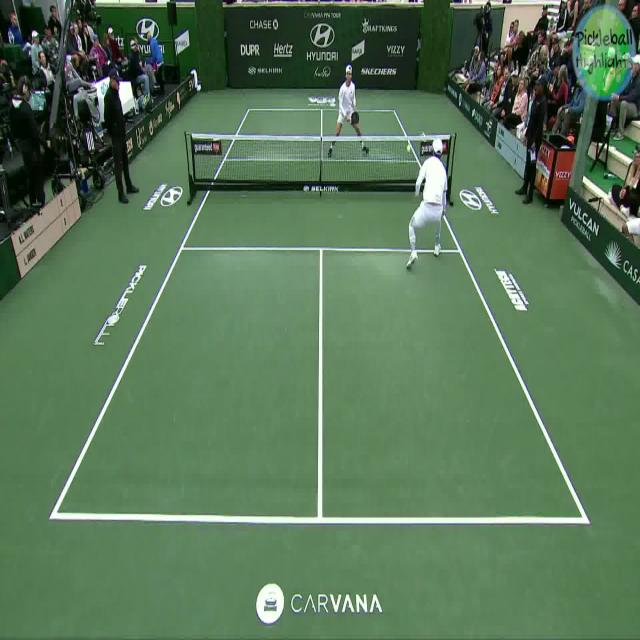ball: (406, 145, 410, 153)
